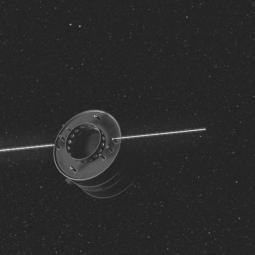double_start: (45, 100, 165, 210)
